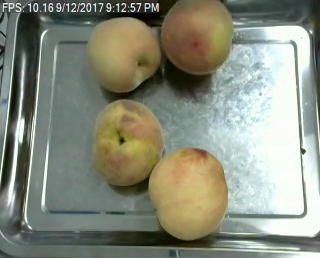Peach: (150, 147, 228, 240), (91, 99, 164, 189), (88, 16, 162, 92), (161, 0, 234, 74)
